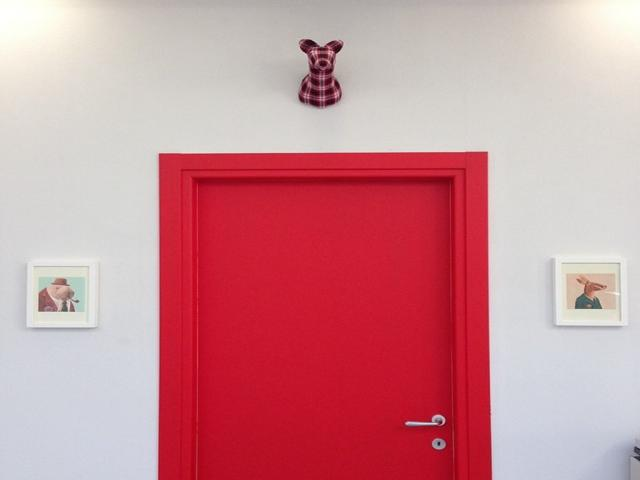Door-handle: (406, 413, 447, 427)
